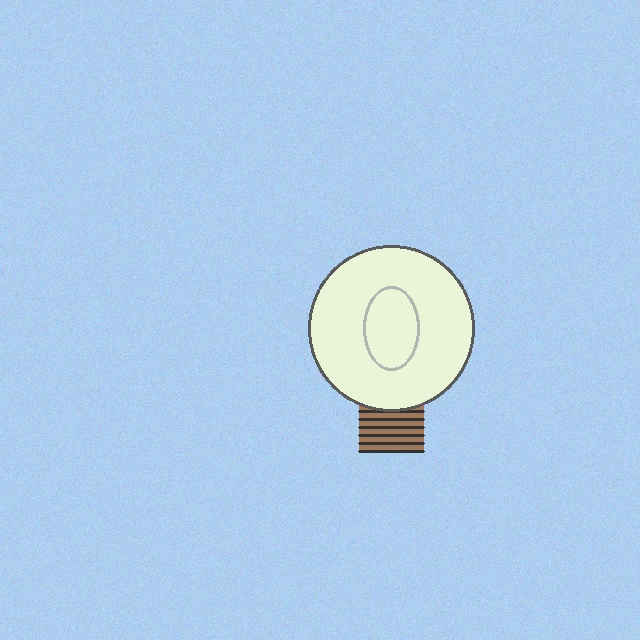bulb: (304, 241, 478, 457)
